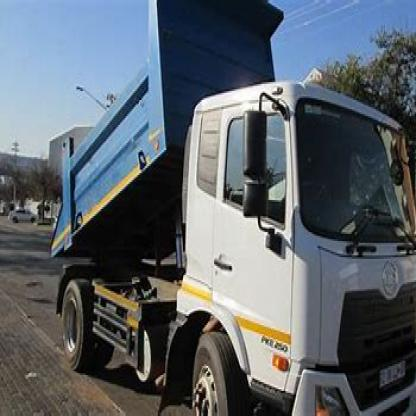dump_truck: (27, 2, 415, 414)
